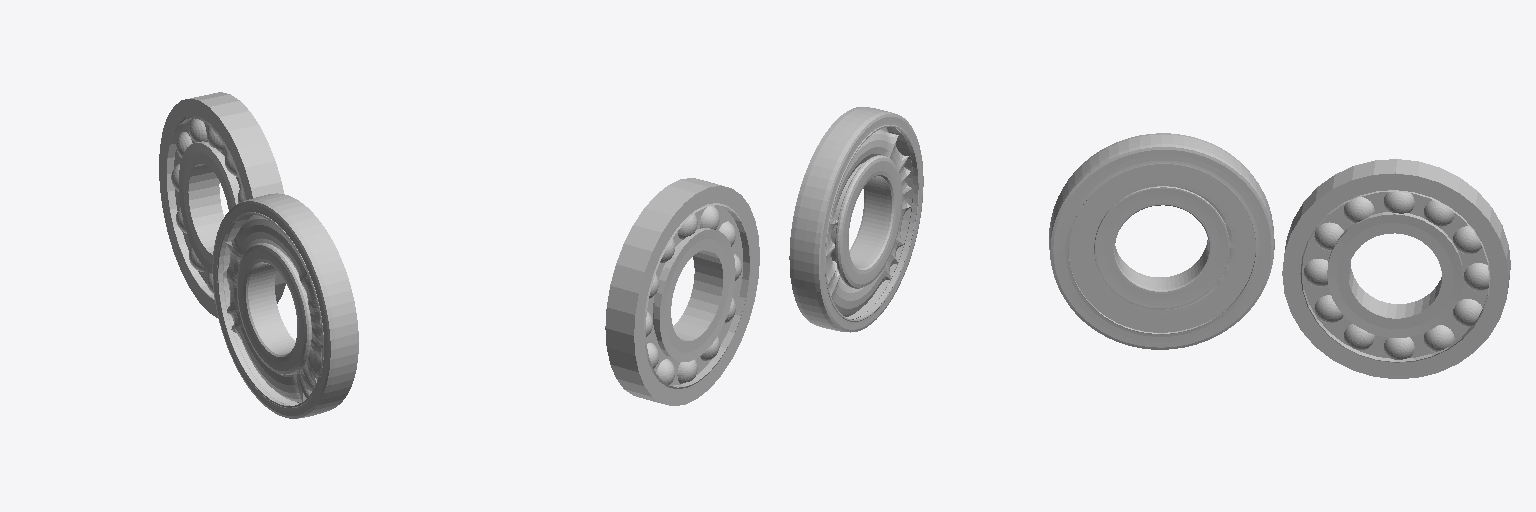
File: Ball Bearing Rig.obj
3 views of the same model, side by side, from view 1: azimuth 30°, elevation 25°; view 2: azimuth 150°, elevation 25°; view 3: azimuth 270°, elevation 25° (orthographic).
Parts seen in each view (by area): view 1: Circle.012, Circle.011, Circle.013, Circle.014, Circle.010, Sphere.003; view 2: Circle.011, Circle.012, Circle.010, Circle.013, Circle.014, Sphere.003, Circle.009; view 3: Circle.011, Circle.012, Circle.014, Circle.010, Circle.013, Sphere.003, Circle.009.
Boxes of the visible parts, x1=… form: Circle.012: x1=212, y1=193, x2=358, y2=418; Circle.011: x1=159, y1=92, x2=285, y2=317; Circle.013: x1=236, y1=243, x2=311, y2=374; Circle.014: x1=223, y1=215, x2=322, y2=402; Circle.010: x1=179, y1=141, x2=239, y2=273; Sphere.003: x1=171, y1=118, x2=244, y2=293; Circle.011: x1=605, y1=178, x2=759, y2=405; Circle.012: x1=789, y1=107, x2=923, y2=332; Circle.010: x1=653, y1=228, x2=735, y2=361; Circle.013: x1=831, y1=155, x2=902, y2=288; Circle.014: x1=826, y1=129, x2=911, y2=316; Sphere.003: x1=646, y1=206, x2=741, y2=384; Circle.009: x1=646, y1=205, x2=742, y2=385; Circle.011: x1=1282, y1=159, x2=1510, y2=378; Circle.012: x1=1049, y1=133, x2=1274, y2=349; Circle.014: x1=1069, y1=164, x2=1255, y2=332; Circle.010: x1=1327, y1=212, x2=1463, y2=337; Circle.013: x1=1094, y1=186, x2=1229, y2=309; Sphere.003: x1=1304, y1=191, x2=1488, y2=359; Circle.009: x1=1302, y1=192, x2=1487, y2=357.
Size of the model in its own units: 3.92 by 8 by 16.28.